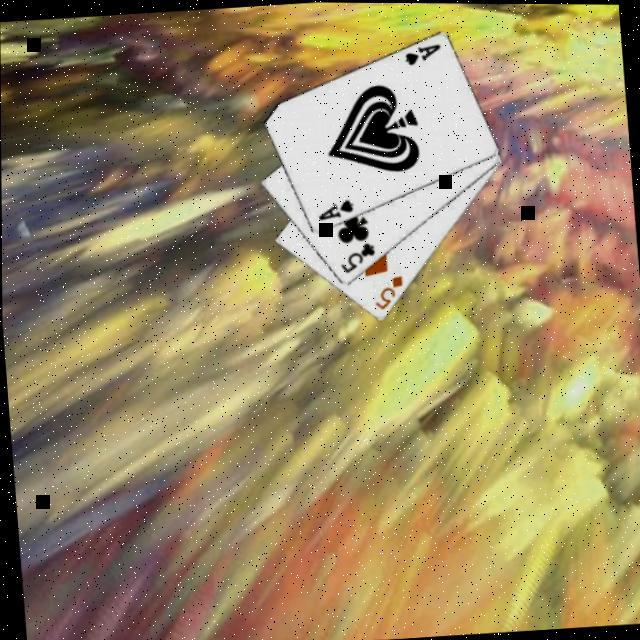5C: (337, 240, 379, 278)
5D: (370, 273, 409, 314)
AS: (402, 42, 446, 69), (316, 197, 358, 224)
